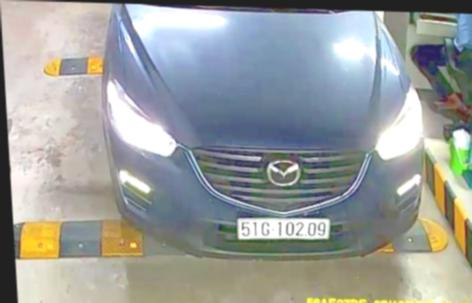License_Plate: (235, 210, 331, 248)
